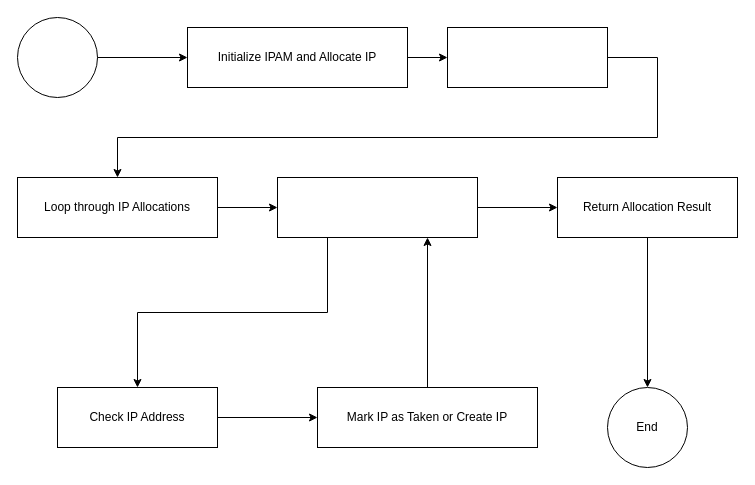
The diagram is 755 pixels wide and 485 high, and some of its shapes have lost their labels. The shapes that lost their labels are listed below. From the top down, each one's centre as x and y in pixels, then its label:
At point 57,57: "Start".
At point 527,57: "Validate API Key".
At point 377,207: "Allocate IP from Range".
